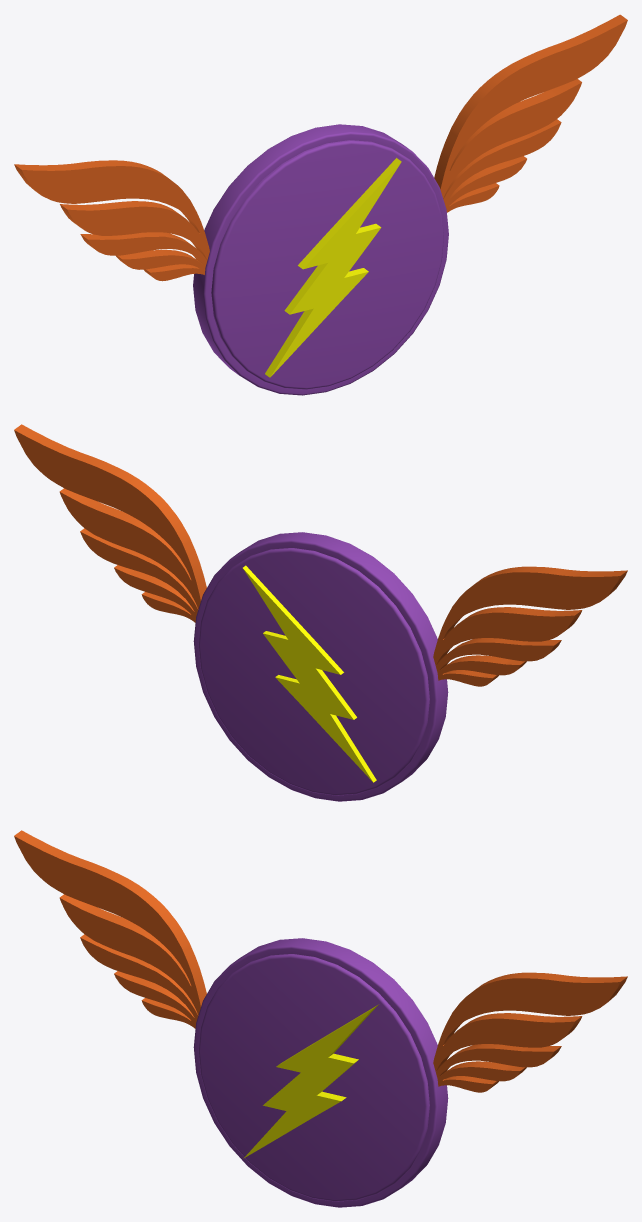
Rendered from Speed Powerup.fbx.
3 renders of one model, top to bottom at view 1: azimuth 30°, elevation 25°; view 2: azimuth 150°, elevation 25°; view 3: azimuth 330°, elevation 25°, orthographic.
Visible parts, largest first — view 1: Speed; view 2: Speed; view 3: Speed.
Part boxes in pixels (box(x1,y1,x2,y2)): Speed: box(14, 14, 627, 395); Speed: box(14, 424, 627, 801); Speed: box(14, 830, 627, 1207).
Size of the model in its own units: 808 by 376 by 58.7.
